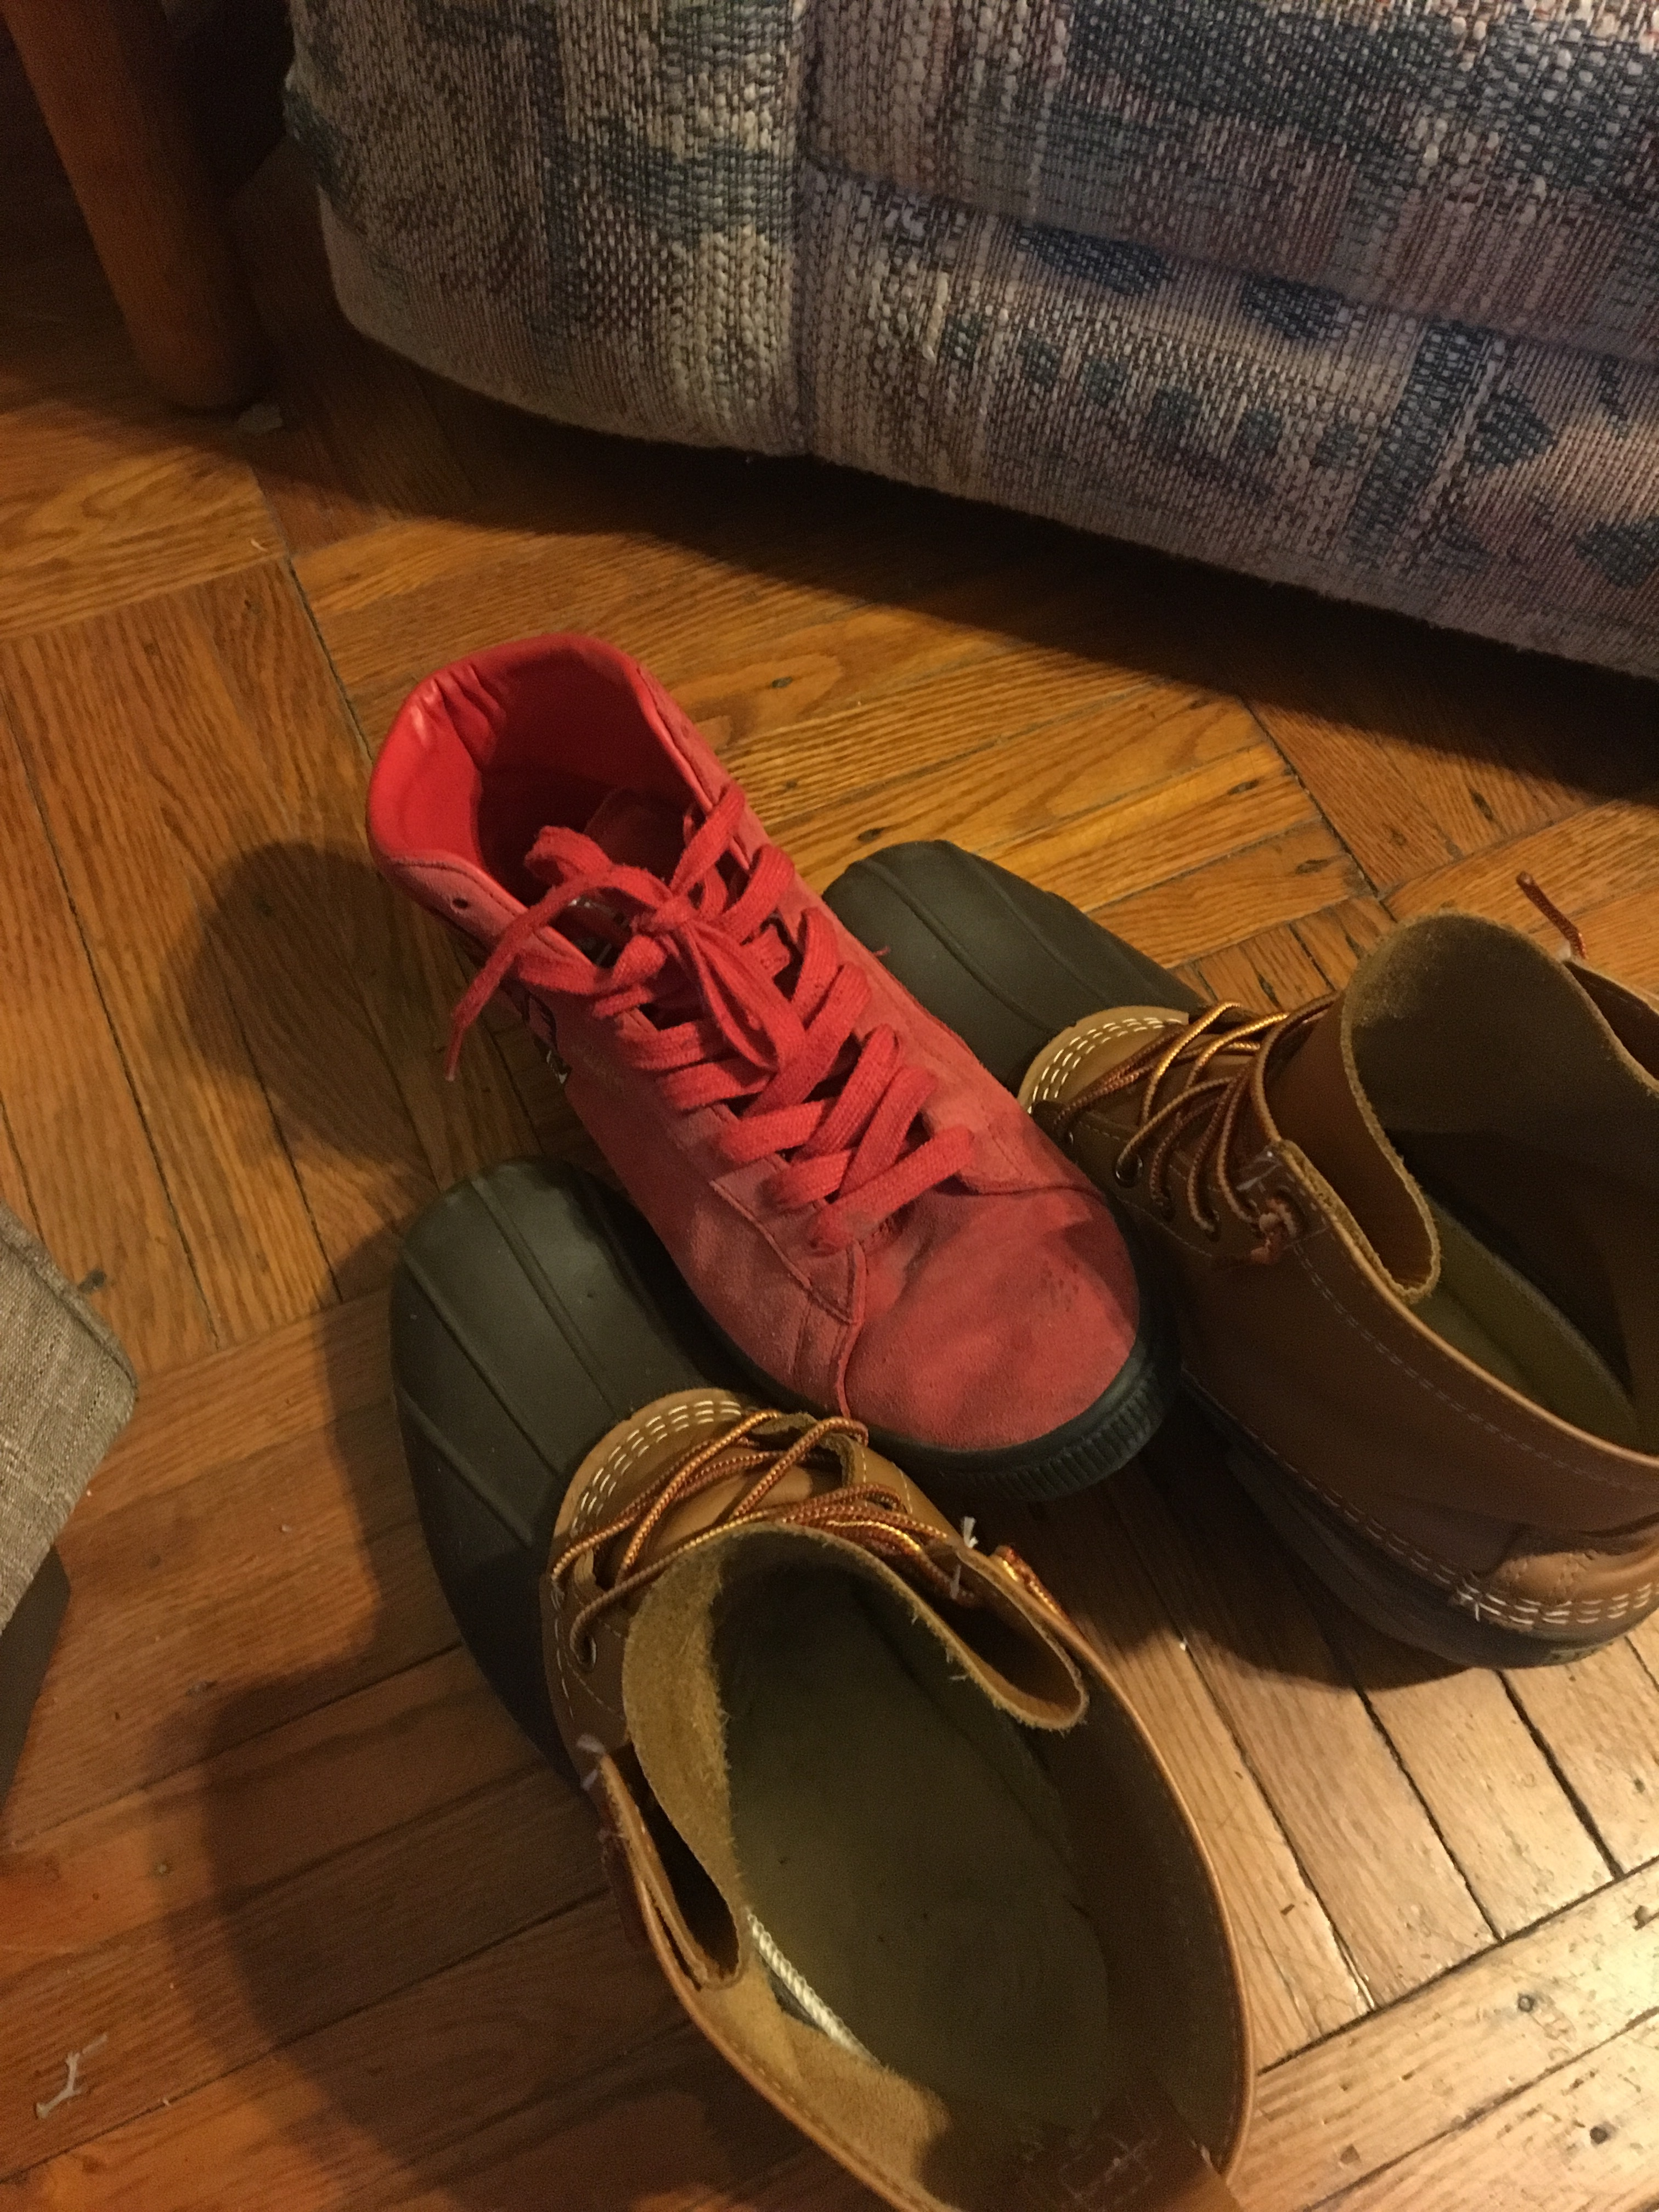Puma Suede Hi Red: (338, 615, 1201, 1531)
